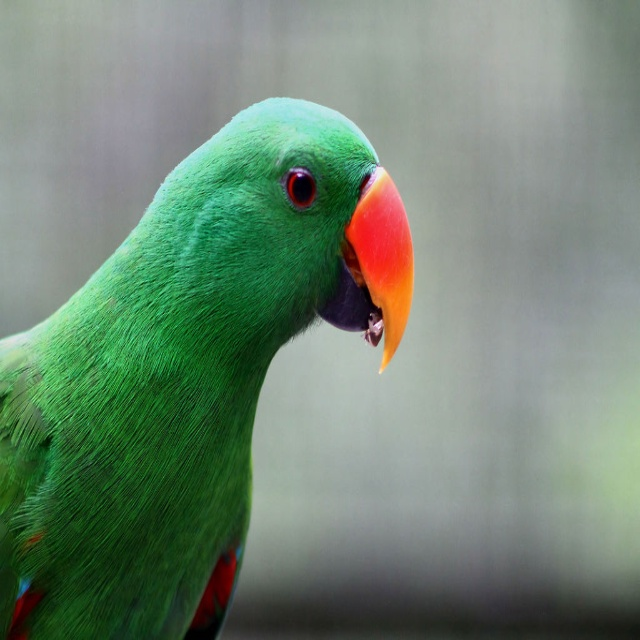Parrot: (0, 98, 420, 639)
